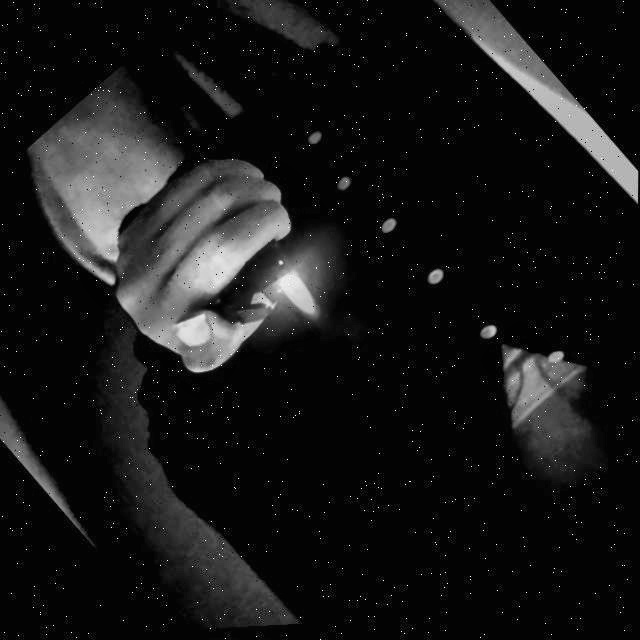Fire: (280, 273, 325, 323)
